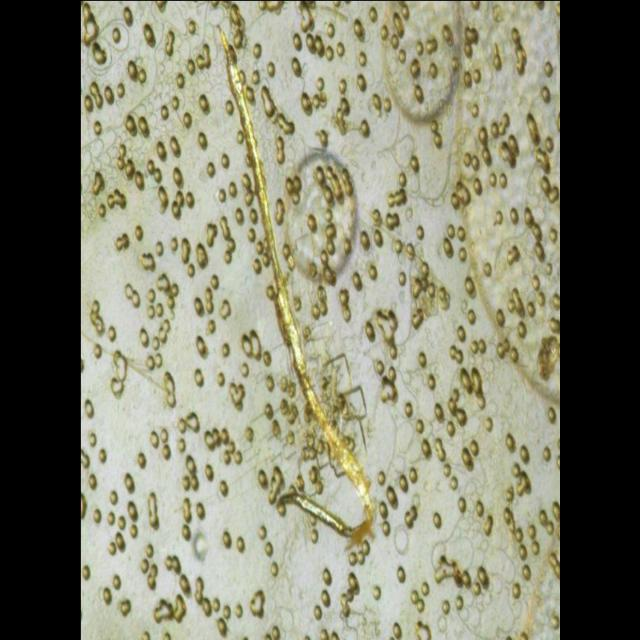Fibre: (81, 2, 559, 640), (216, 24, 374, 554)
